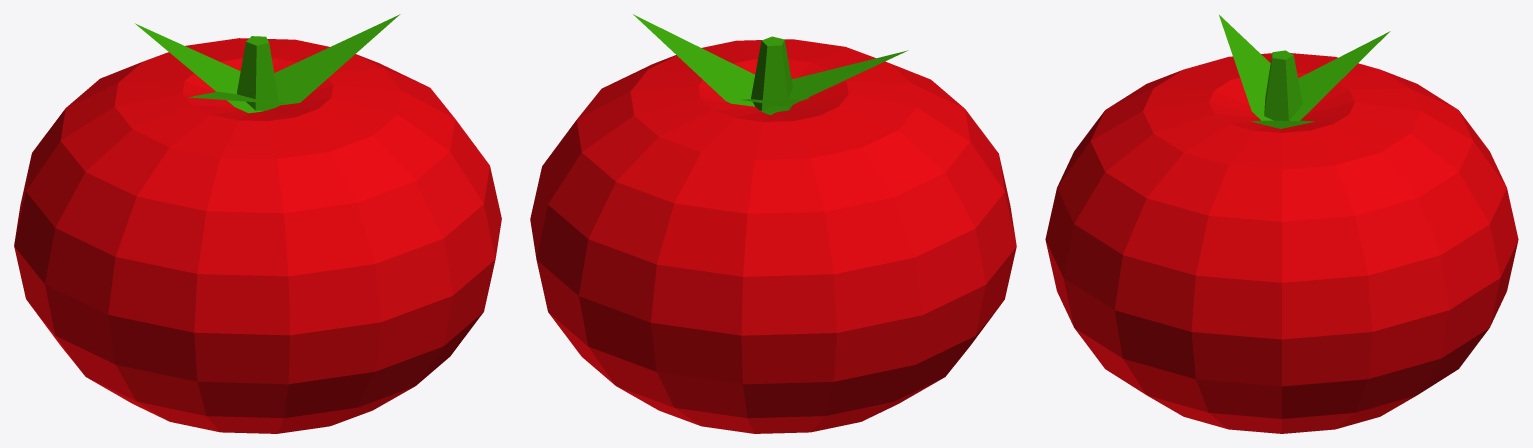
The model's file is Tomato.dae.
The picture shows the model from 3 angles, left to right: view 1: azimuth 30°, elevation 25°; view 2: azimuth 150°, elevation 25°; view 3: azimuth 270°, elevation 25°; orthographic projection. The views are drawn at different scales.
Visible parts, largest first — view 1: Sphere; view 2: Sphere; view 3: Sphere.
Boxes of the visible parts, bbox=[...] form: Sphere: bbox=[14, 14, 501, 433]; Sphere: bbox=[530, 14, 1016, 433]; Sphere: bbox=[1045, 15, 1518, 433].
Size of the model in its own units: 2 by 2 by 1.56.
